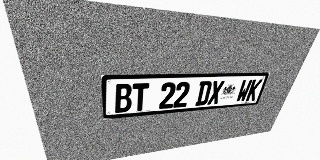2: (173, 81, 191, 108), (159, 82, 176, 109)
B: (114, 83, 132, 113)
D: (195, 81, 213, 106)
K: (245, 79, 263, 101)
T: (132, 83, 149, 111)
W: (235, 79, 253, 102)
X: (207, 80, 225, 105)
